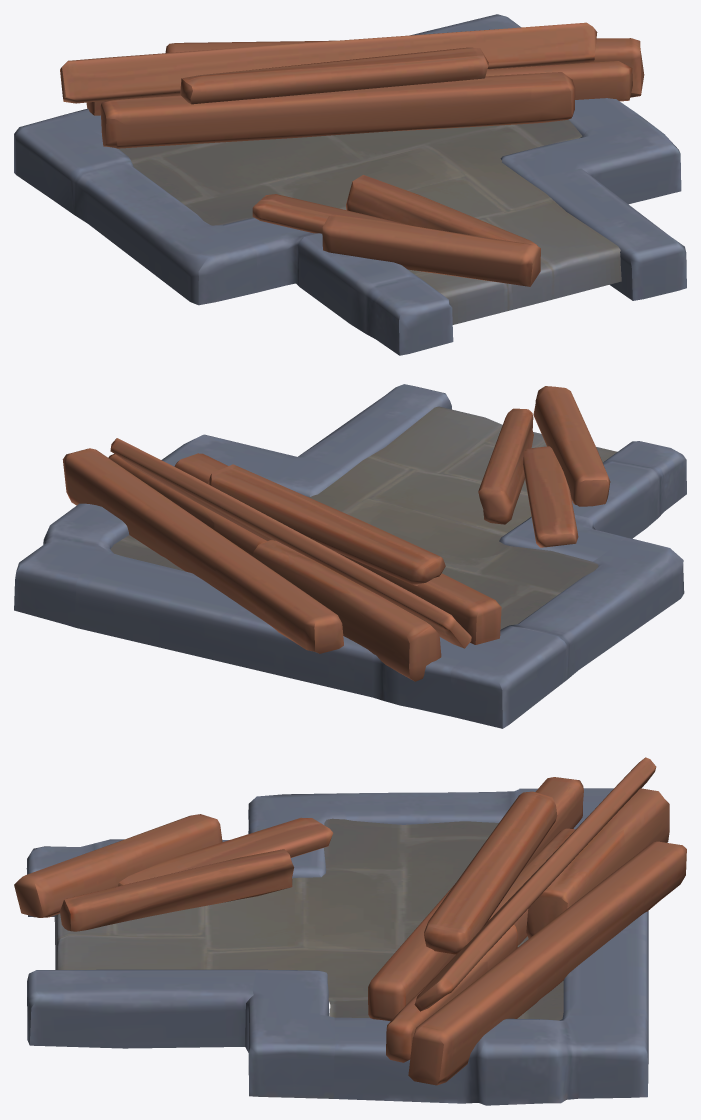
Rendered from SM_House_01.glb.
3 views of the same model, one above another, from view 1: azimuth 30°, elevation 25°; view 2: azimuth 150°, elevation 25°; view 3: azimuth 270°, elevation 25° (orthographic). The views are drawn at different scales.
Parts seen in each view (by area): view 1: SM_House_01; view 2: SM_House_01; view 3: SM_House_01.
Boxes of the visible parts, left/top/right/bottom form: SM_House_01: left=14, top=14, right=686, bottom=355; SM_House_01: left=14, top=384, right=686, bottom=728; SM_House_01: left=14, top=757, right=686, bottom=1105.
Size of the model in its own units: 4.06 by 0.7894 by 4.07.
1 material, 1 textured.
